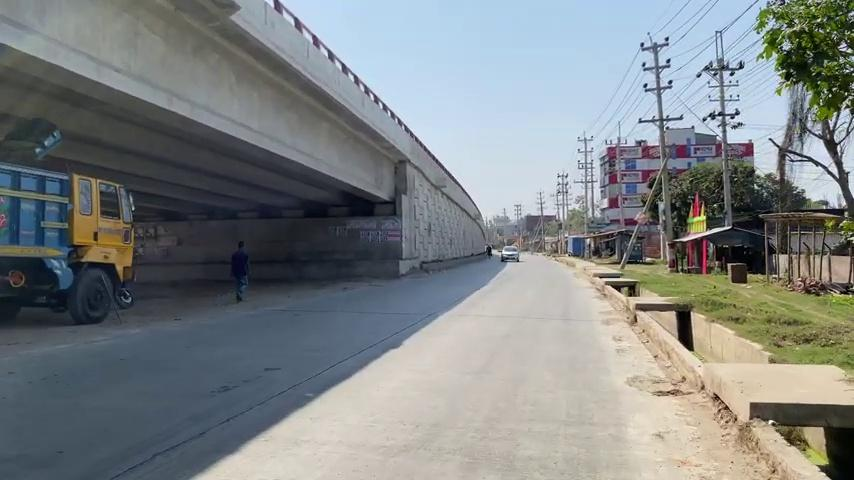Bollard: (500, 245, 519, 262)
Car: (630, 305, 854, 480)
Crosswalk: (728, 262, 747, 283)
Curb: (486, 244, 492, 258)
Fallen-tree: (0, 0, 489, 282)
Fence: (230, 240, 250, 302)
Garbage: (639, 34, 677, 265)
Rickshaw: (0, 159, 137, 325)
